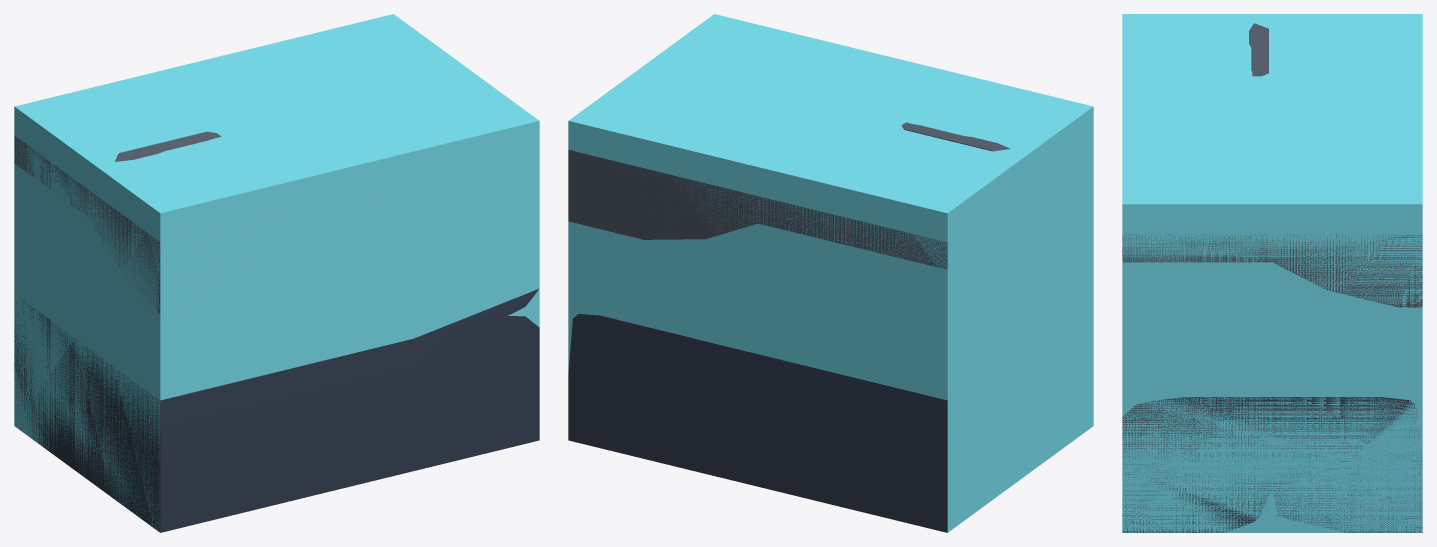
The model's file is PBOX23_FLA_01.FBX.
3 renders of one model, left to right at view 1: azimuth 30°, elevation 25°; view 2: azimuth 150°, elevation 25°; view 3: azimuth 270°, elevation 25°, orthographic. The views are drawn at different scales.
Parts seen in each view (by area): view 1: PBOX23_FLA_01, PBOX23_SUB_TAB_FlA_002, PBOX23_SUB_FLA_003; view 2: PBOX23_FLA_01, PBOX23_SUB_TAB_FlA_002, PBOX23_SUB_FLA_003; view 3: PBOX23_FLA_01, PBOX23_SUB_TAB_FlA_002, PBOX23_SUB_FLA_003.
Part boxes in pixels (bbox=[...]): PBOX23_FLA_01: bbox=[14, 14, 539, 531]; PBOX23_SUB_TAB_FlA_002: bbox=[14, 288, 539, 532]; PBOX23_SUB_FLA_003: bbox=[14, 131, 221, 313]; PBOX23_FLA_01: bbox=[568, 14, 1093, 532]; PBOX23_SUB_TAB_FlA_002: bbox=[568, 314, 947, 532]; PBOX23_SUB_FLA_003: bbox=[568, 122, 1010, 269]; PBOX23_FLA_01: bbox=[1122, 14, 1422, 532]; PBOX23_SUB_TAB_FlA_002: bbox=[1122, 397, 1422, 532]; PBOX23_SUB_FLA_003: bbox=[1122, 23, 1422, 307].
Bounding box in the file's own units: 18 × 14.54 × 12.
